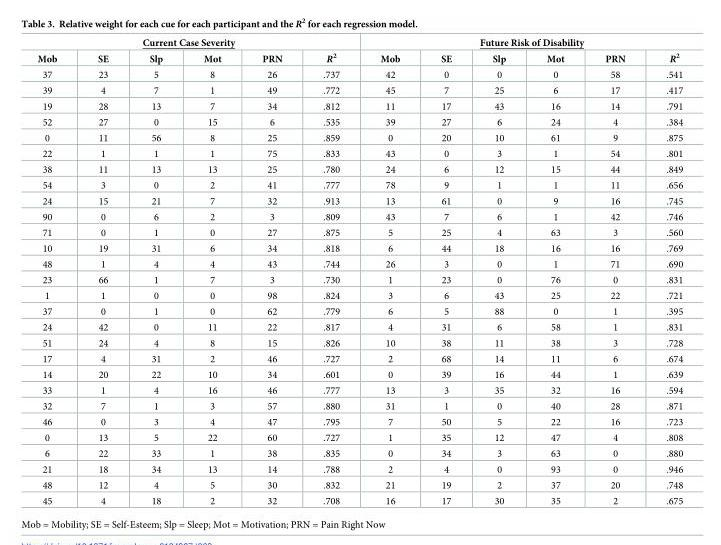table: (36, 37, 682, 505)
table column: (584, 37, 645, 505), (241, 37, 301, 505), (359, 37, 419, 505), (182, 37, 241, 505), (525, 37, 584, 505), (301, 37, 359, 505), (128, 37, 182, 505), (471, 37, 525, 505), (76, 37, 128, 505), (419, 37, 471, 505), (36, 37, 76, 505), (645, 37, 682, 505)
table column header: (36, 37, 682, 67)
table row: (36, 49, 682, 67), (36, 82, 682, 98), (36, 98, 682, 114), (36, 129, 682, 145), (36, 145, 682, 161), (36, 161, 682, 177), (36, 192, 682, 208), (36, 208, 682, 224), (36, 224, 682, 240), (36, 240, 682, 256), (36, 271, 682, 287), (36, 287, 682, 303), (36, 303, 682, 319), (36, 334, 682, 350), (36, 350, 682, 366), (36, 366, 682, 382), (36, 382, 682, 398), (36, 413, 682, 429), (36, 429, 682, 445), (36, 445, 682, 461), (36, 461, 682, 477), (36, 67, 682, 82), (36, 114, 682, 129), (36, 177, 682, 192), (36, 256, 682, 271), (36, 319, 682, 334), (36, 398, 682, 413), (36, 477, 682, 492), (36, 492, 682, 505), (36, 37, 682, 49)
table spanning cell: (36, 37, 359, 49), (359, 37, 682, 49)
